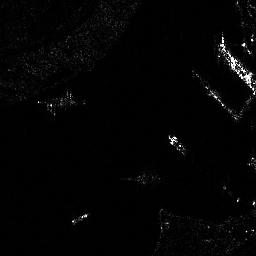ship: (217, 41, 256, 93), (165, 133, 187, 154)
